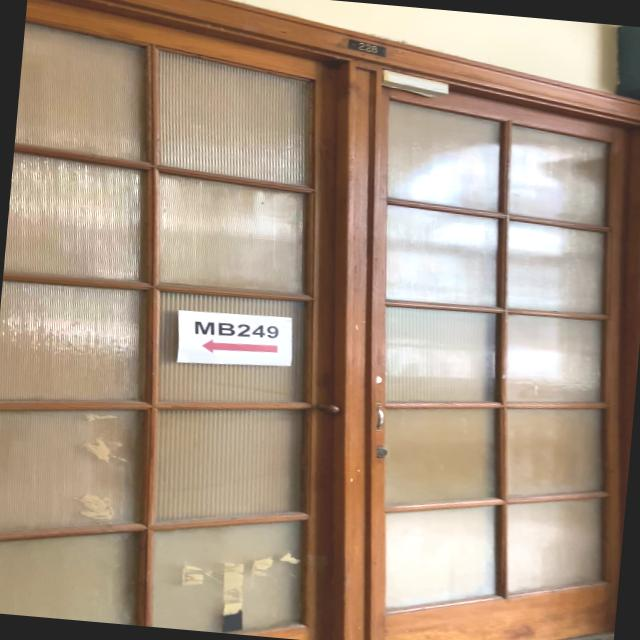room228: (344, 36, 390, 58)
